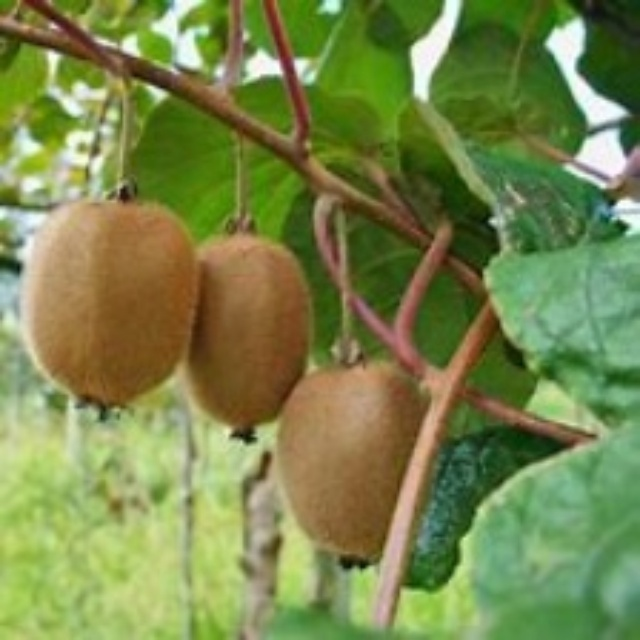kiwi: (26, 202, 203, 418), (280, 367, 435, 567), (179, 220, 312, 448)
